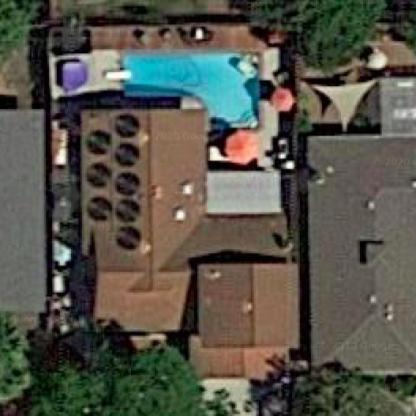swimming_pool: (118, 39, 275, 144)
